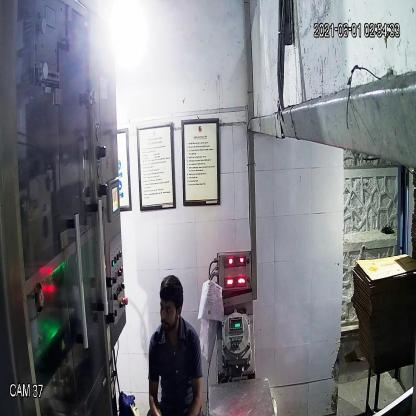no_goggles: (157, 301, 182, 321)
